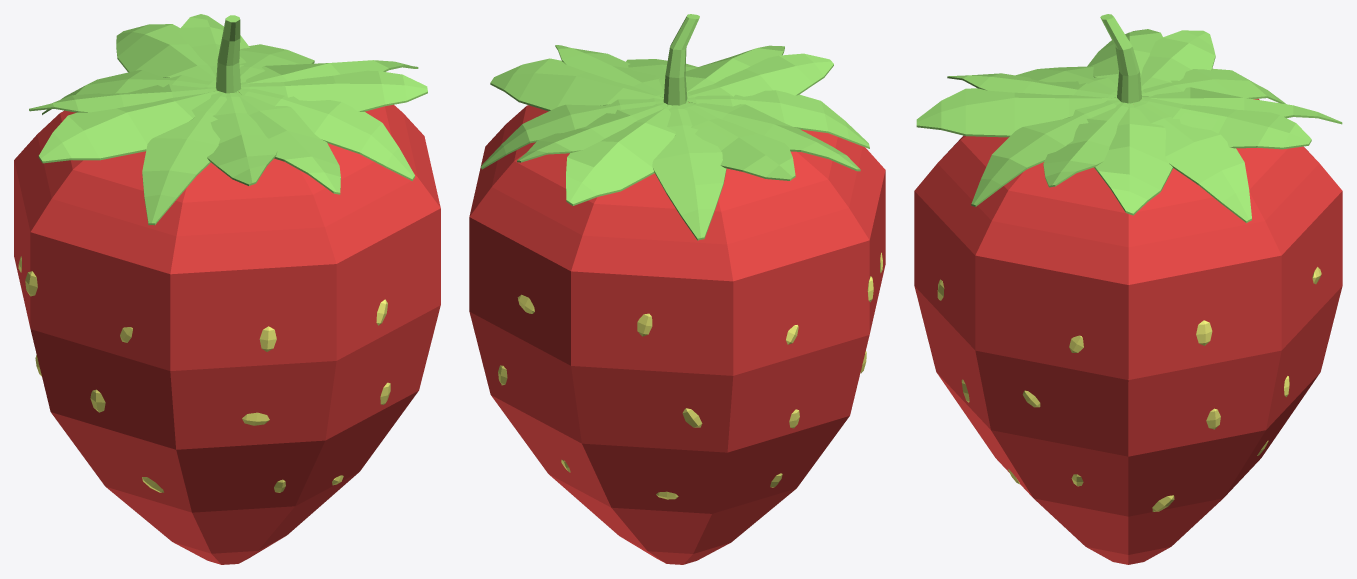
File: strawberry.fbx
The picture shows the model from 3 angles, left to right: view 1: azimuth 30°, elevation 25°; view 2: azimuth 150°, elevation 25°; view 3: azimuth 270°, elevation 25°; orthographic projection. The views are drawn at different scales.
Visible parts, largest first — view 1: Cube.001; view 2: Cube.001; view 3: Cube.001.
Boxes of the visible parts, bbox=[...] form: Cube.001: bbox=[14, 14, 440, 564]; Cube.001: bbox=[469, 14, 885, 564]; Cube.001: bbox=[914, 14, 1342, 564].
Bounding box in the file's own units: 473 × 623 × 450.
